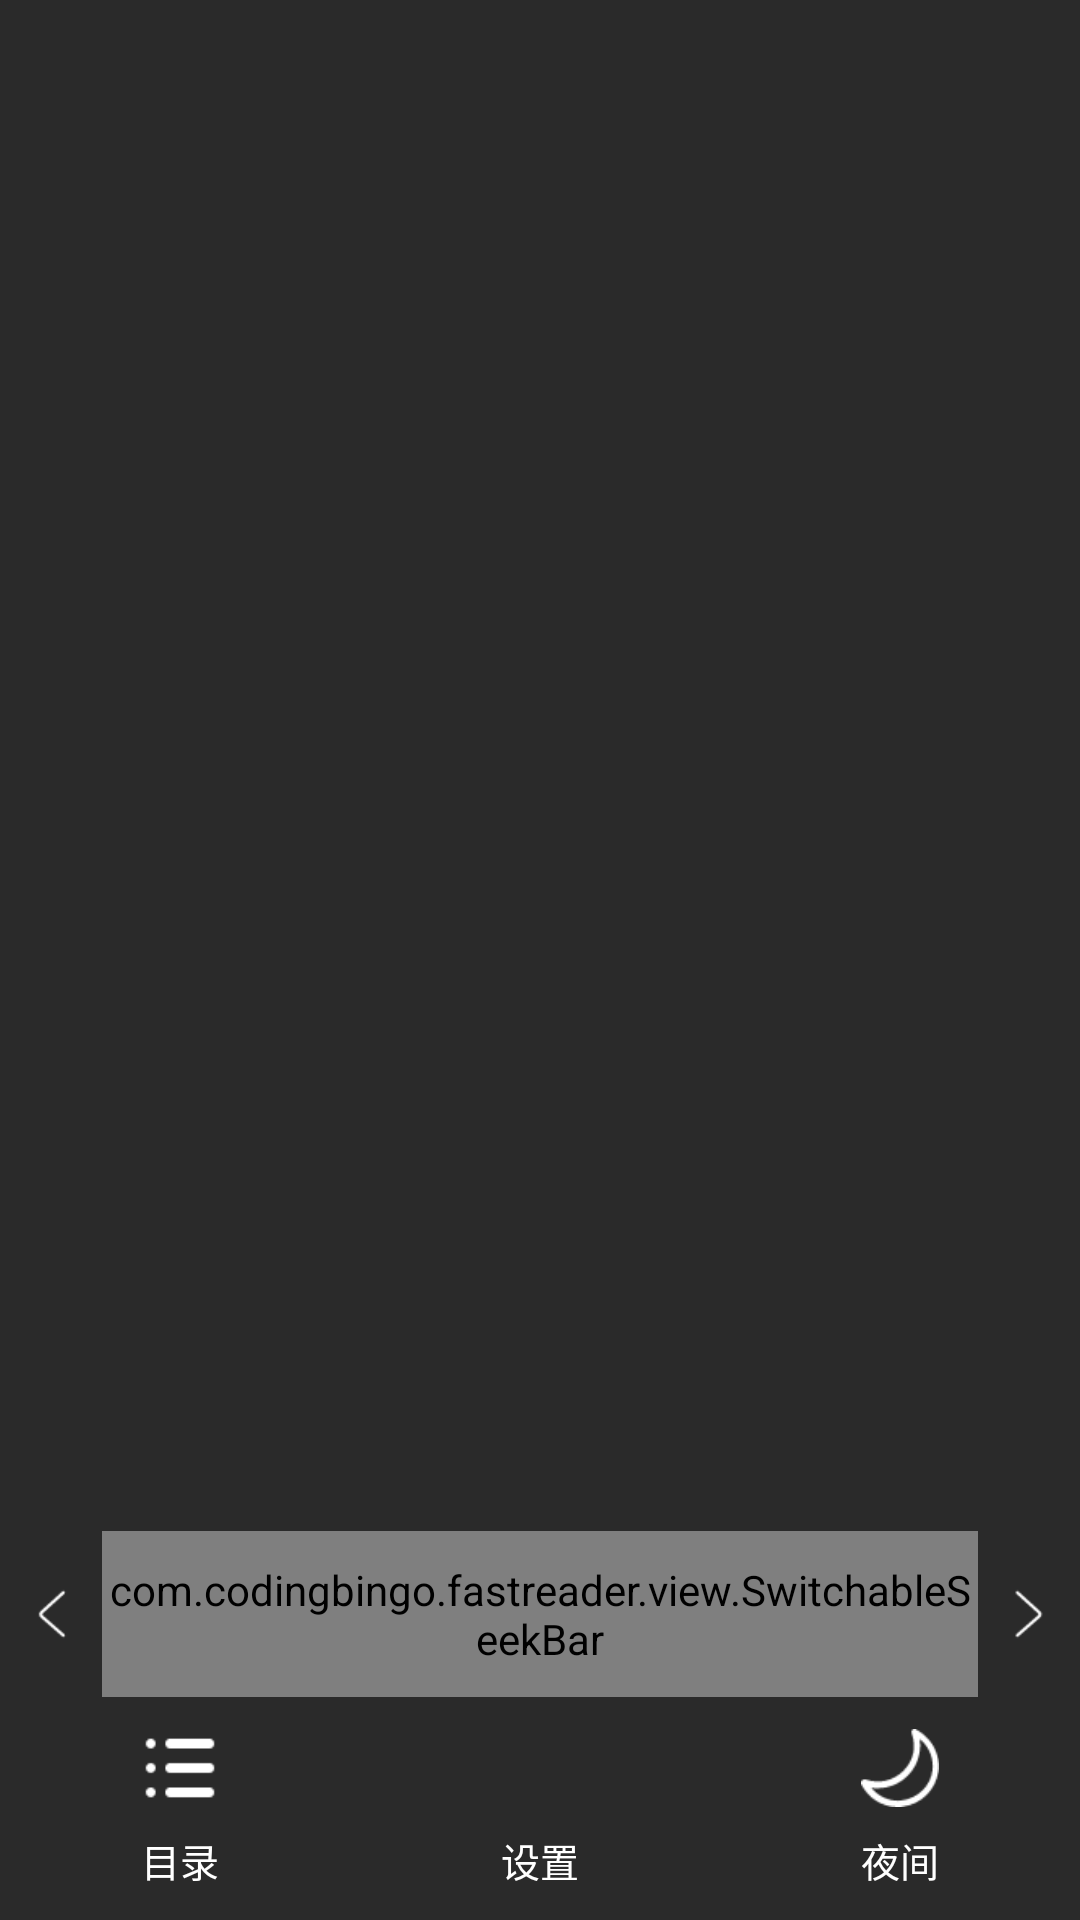

Where to tap for icons on this 1080*1920 app screen, as [x,y]:
arrow left: [51,1614]
arrow right: [1029,1614]
list: [180,1768]
moon: [900,1768]
